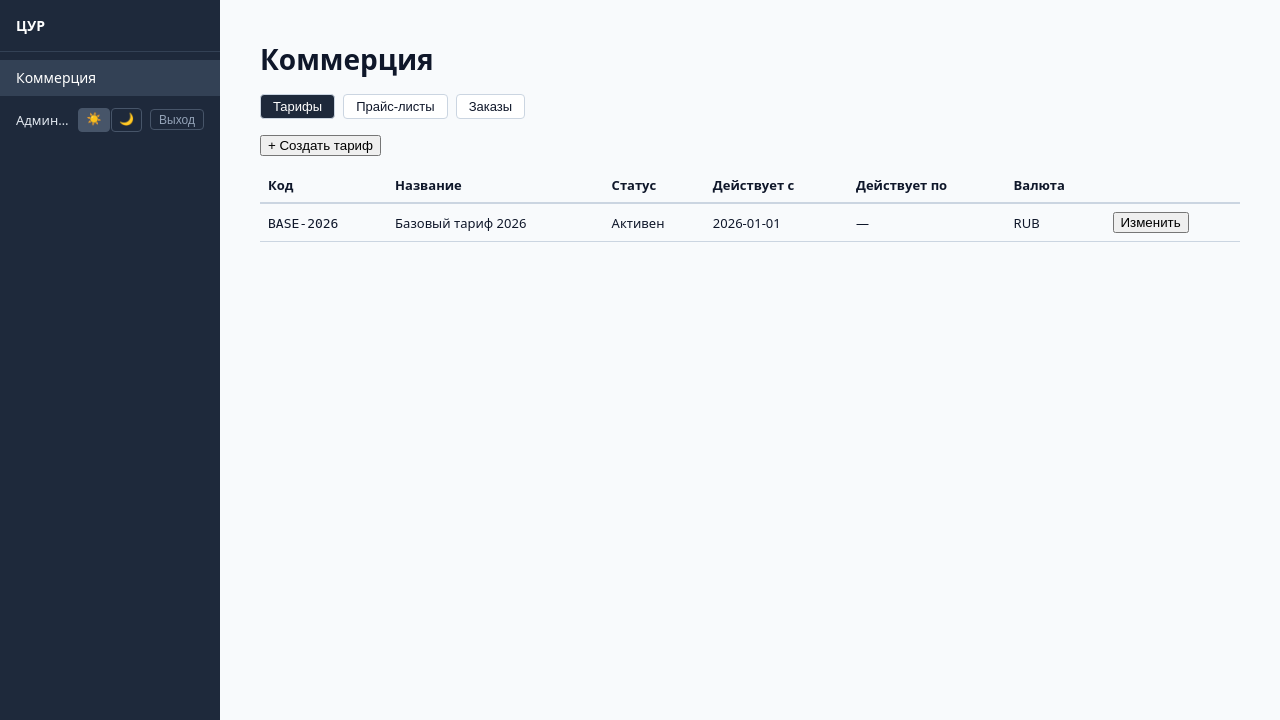
Test: CommerceTariffsPage › opens create form
Click the button with test id "commerce-tariff-create-open". click: (320, 146)
box: [260,135,381,156]
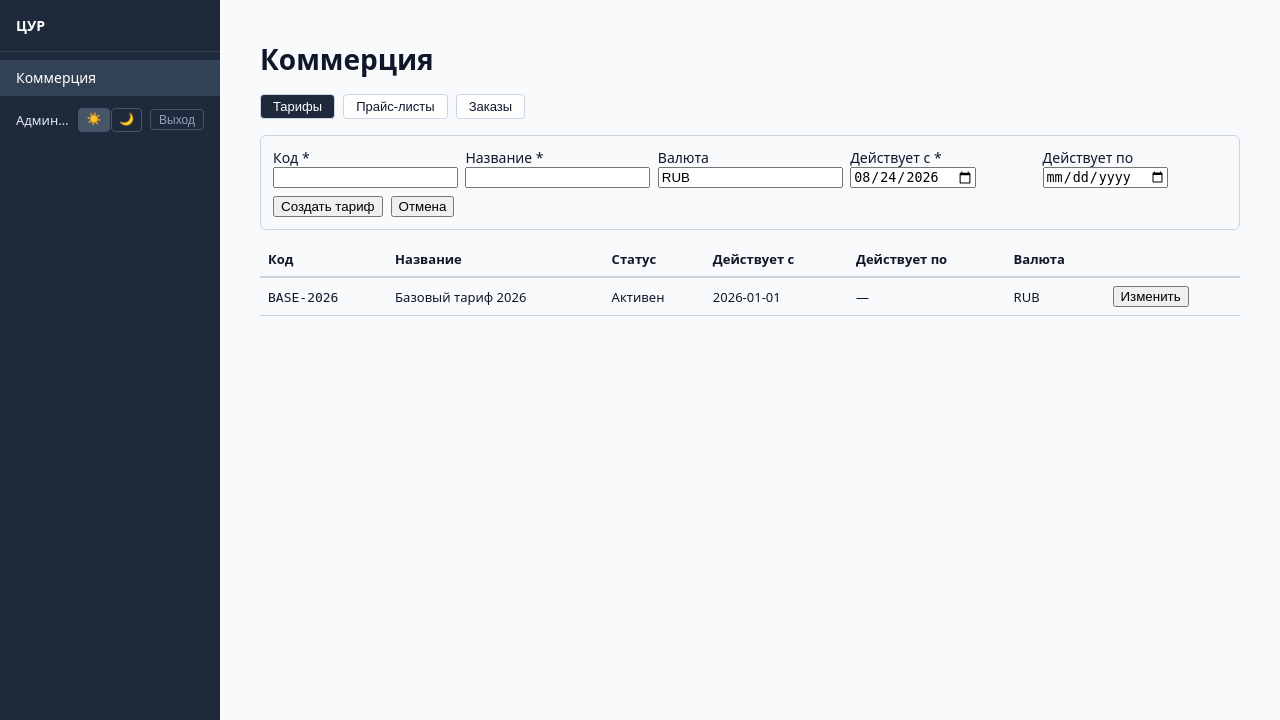
Expected: the form with test id "commerce-tariff-form" is shown, [260,135,1240,230]
